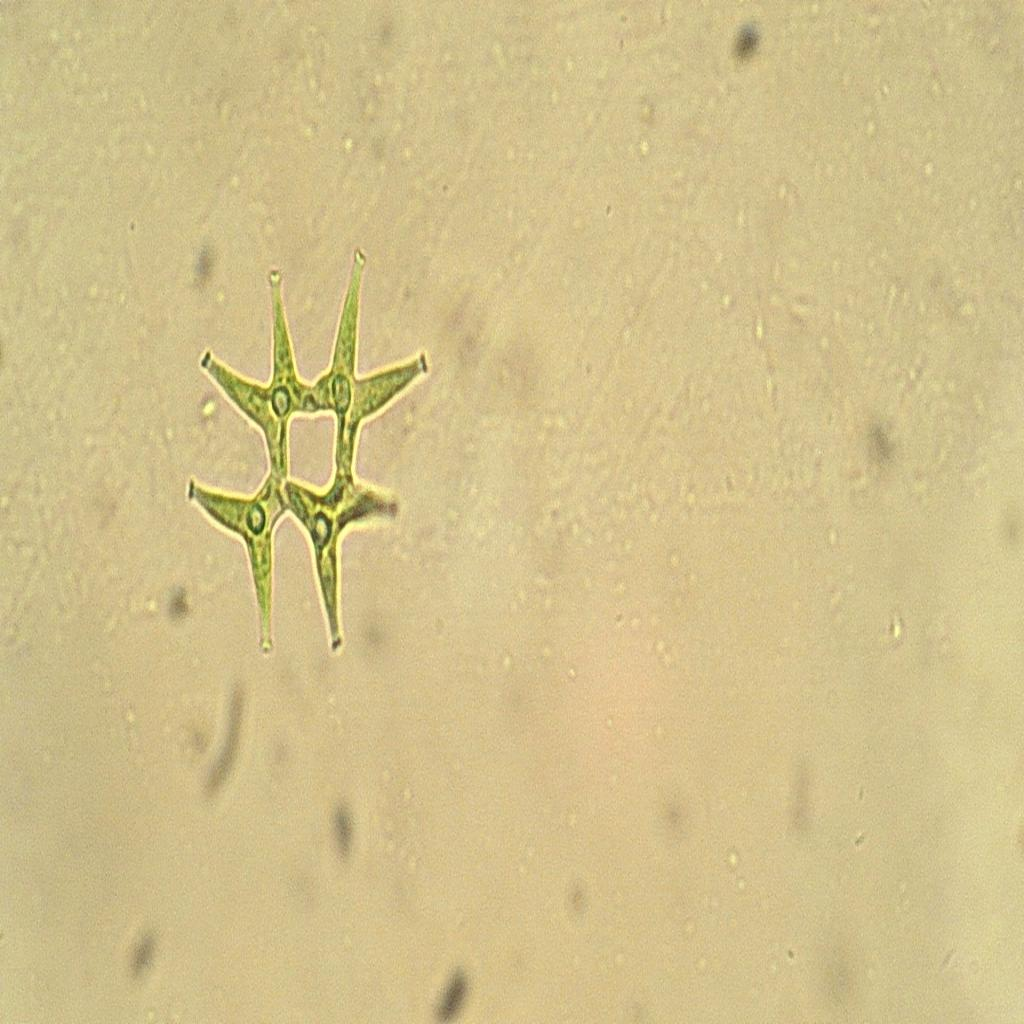Pediastrum_75FI: (184, 214, 446, 684)
